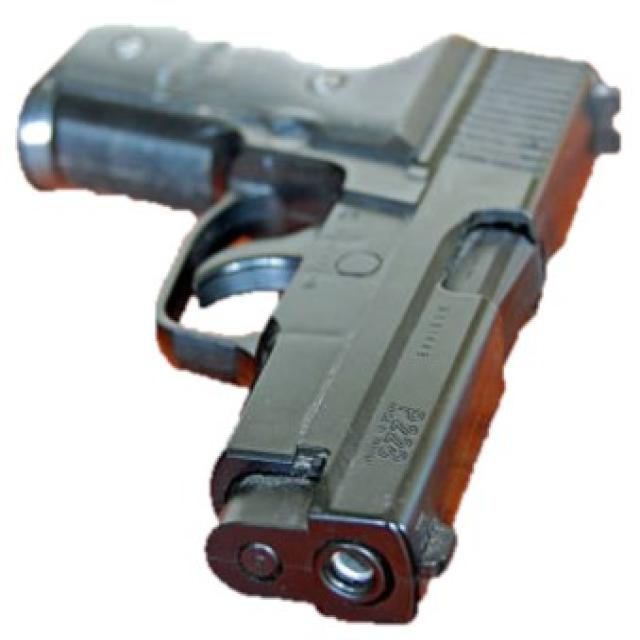pistol: (13, 3, 629, 640)
